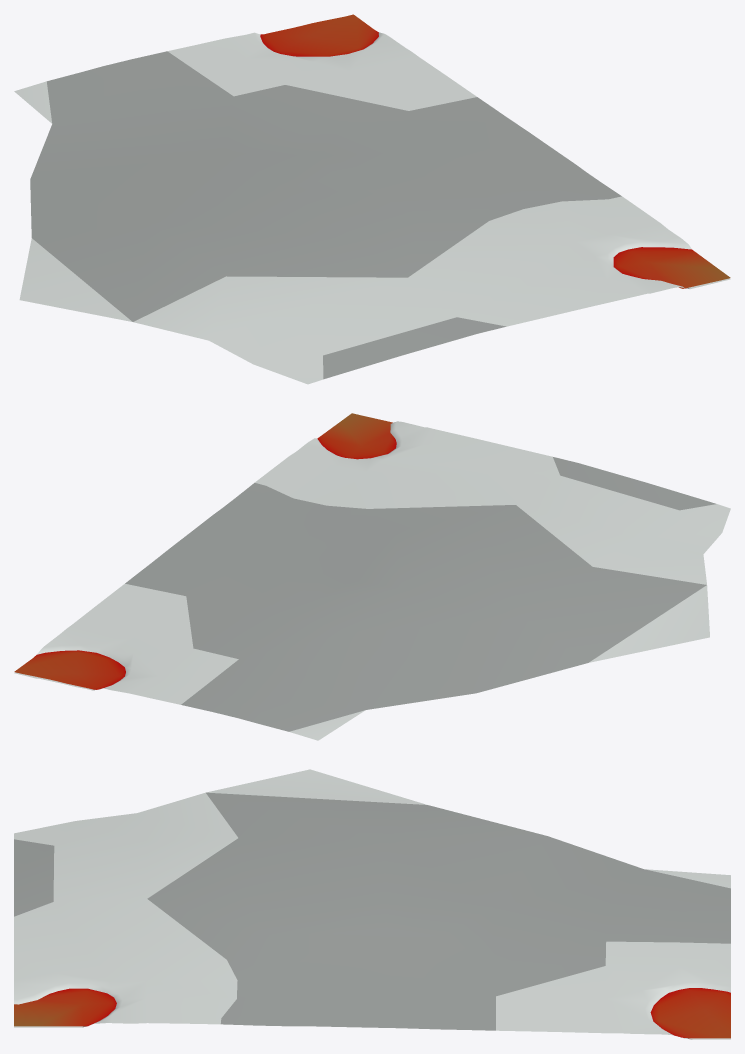
The picture shows the model from 3 angles, top to bottom: view 1: azimuth 30°, elevation 25°; view 2: azimuth 150°, elevation 25°; view 3: azimuth 270°, elevation 25°; orthographic projection. The views are drawn at different scales.
Parts seen in each view (by area): view 1: G:\FFXIV-MapTools\exports\r2f1\bg\ex1\01_roc_r2\fld\r2f1\bgp (×4); view 2: G:\FFXIV-MapTools\exports\r2f1\bg\ex1\01_roc_r2\fld\r2f1\bgp (×4); view 3: G:\FFXIV-MapTools\exports\r2f1\bg\ex1\01_roc_r2\fld\r2f1\bgp (×4).
Part boxes in pixels (left/top/right/bottom): G:\FFXIV-MapTools\exports\r2f1\bg\ex1\01_roc_r2\fld\r2f1\bgp (×4): left=14, top=14, right=730, bottom=384; G:\FFXIV-MapTools\exports\r2f1\bg\ex1\01_roc_r2\fld\r2f1\bgp (×4): left=14, top=413, right=730, bottom=740; G:\FFXIV-MapTools\exports\r2f1\bg\ex1\01_roc_r2\fld\r2f1\bgp (×4): left=14, top=769, right=730, bottom=1039.
Bounding box in the file's own units: 109 × 4.75 × 128.
